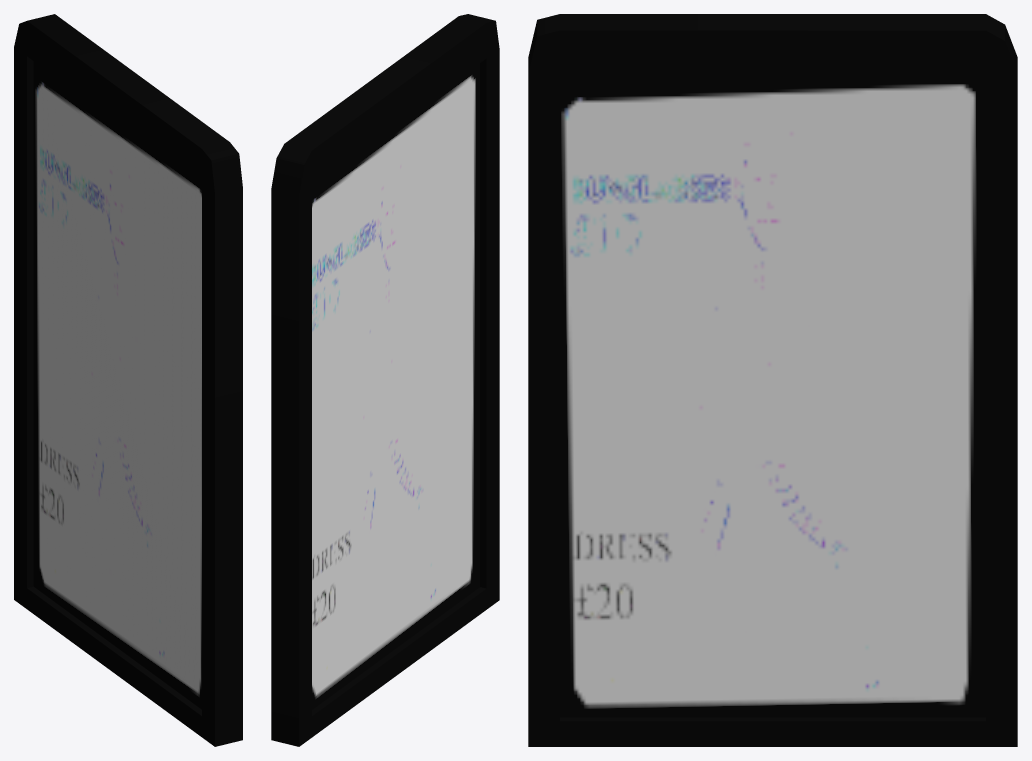
Rendered from billboard5.FBX.
3 views of the same model, side by side, from view 1: azimuth 30°, elevation 25°; view 2: azimuth 150°, elevation 25°; view 3: azimuth 270°, elevation 25° (orthographic). The views are drawn at different scales.
Parts seen in each view (by area): view 1: Box001; view 2: Box001; view 3: Box001.
Boxes of the visible parts, left/top/right/bottom form: Box001: left=14, top=14, right=242, bottom=746; Box001: left=271, top=14, right=499, bottom=746; Box001: left=528, top=14, right=1017, bottom=746.
Bounding box in the file's own units: 0.8235 × 16.61 × 10.28.
